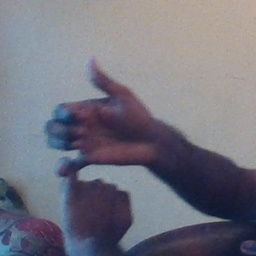S: (39, 51, 154, 234)
